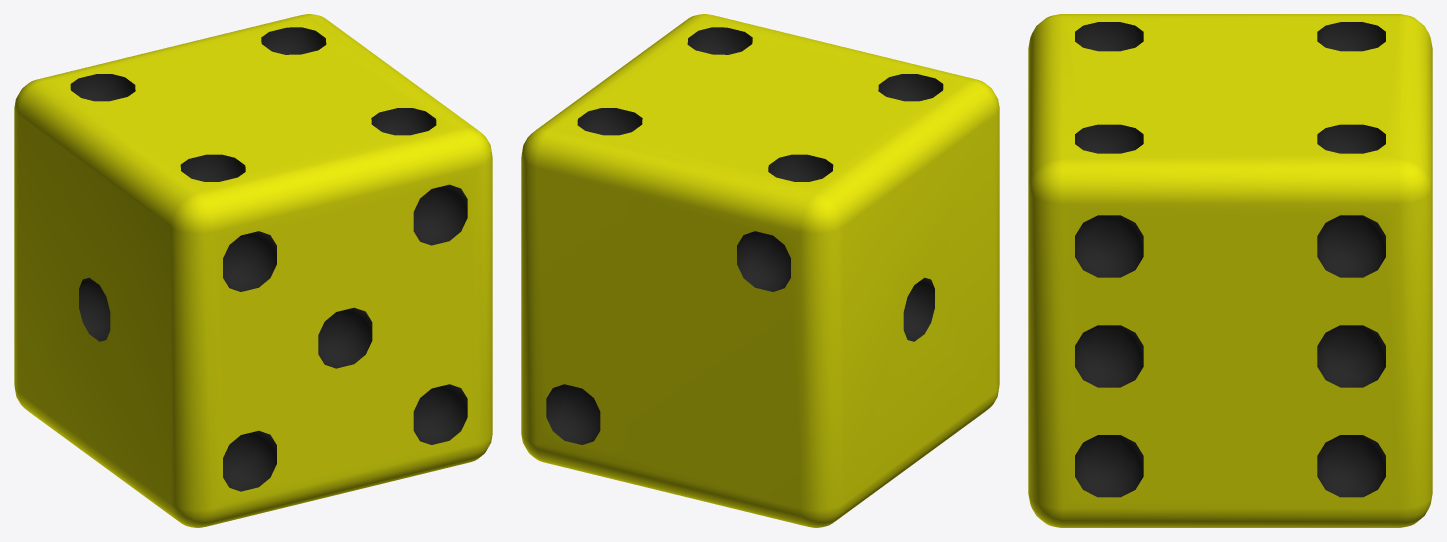
Rendered from dice_yellow.gltf.
3 views of the same model, side by side, from view 1: azimuth 30°, elevation 25°; view 2: azimuth 150°, elevation 25°; view 3: azimuth 270°, elevation 25° (orthographic). The views are drawn at different scales.
Parts seen in each view (by area): view 1: dice_yellow; view 2: dice_yellow; view 3: dice_yellow.
Boxes of the visible parts, <box> form: dice_yellow: <box>14,14,492,527</box>; dice_yellow: <box>521,14,999,527</box>; dice_yellow: <box>1028,14,1432,527</box>.
Size of the model in its own units: 0.05 by 0.05 by 0.05.
1 material, 1 textured.
